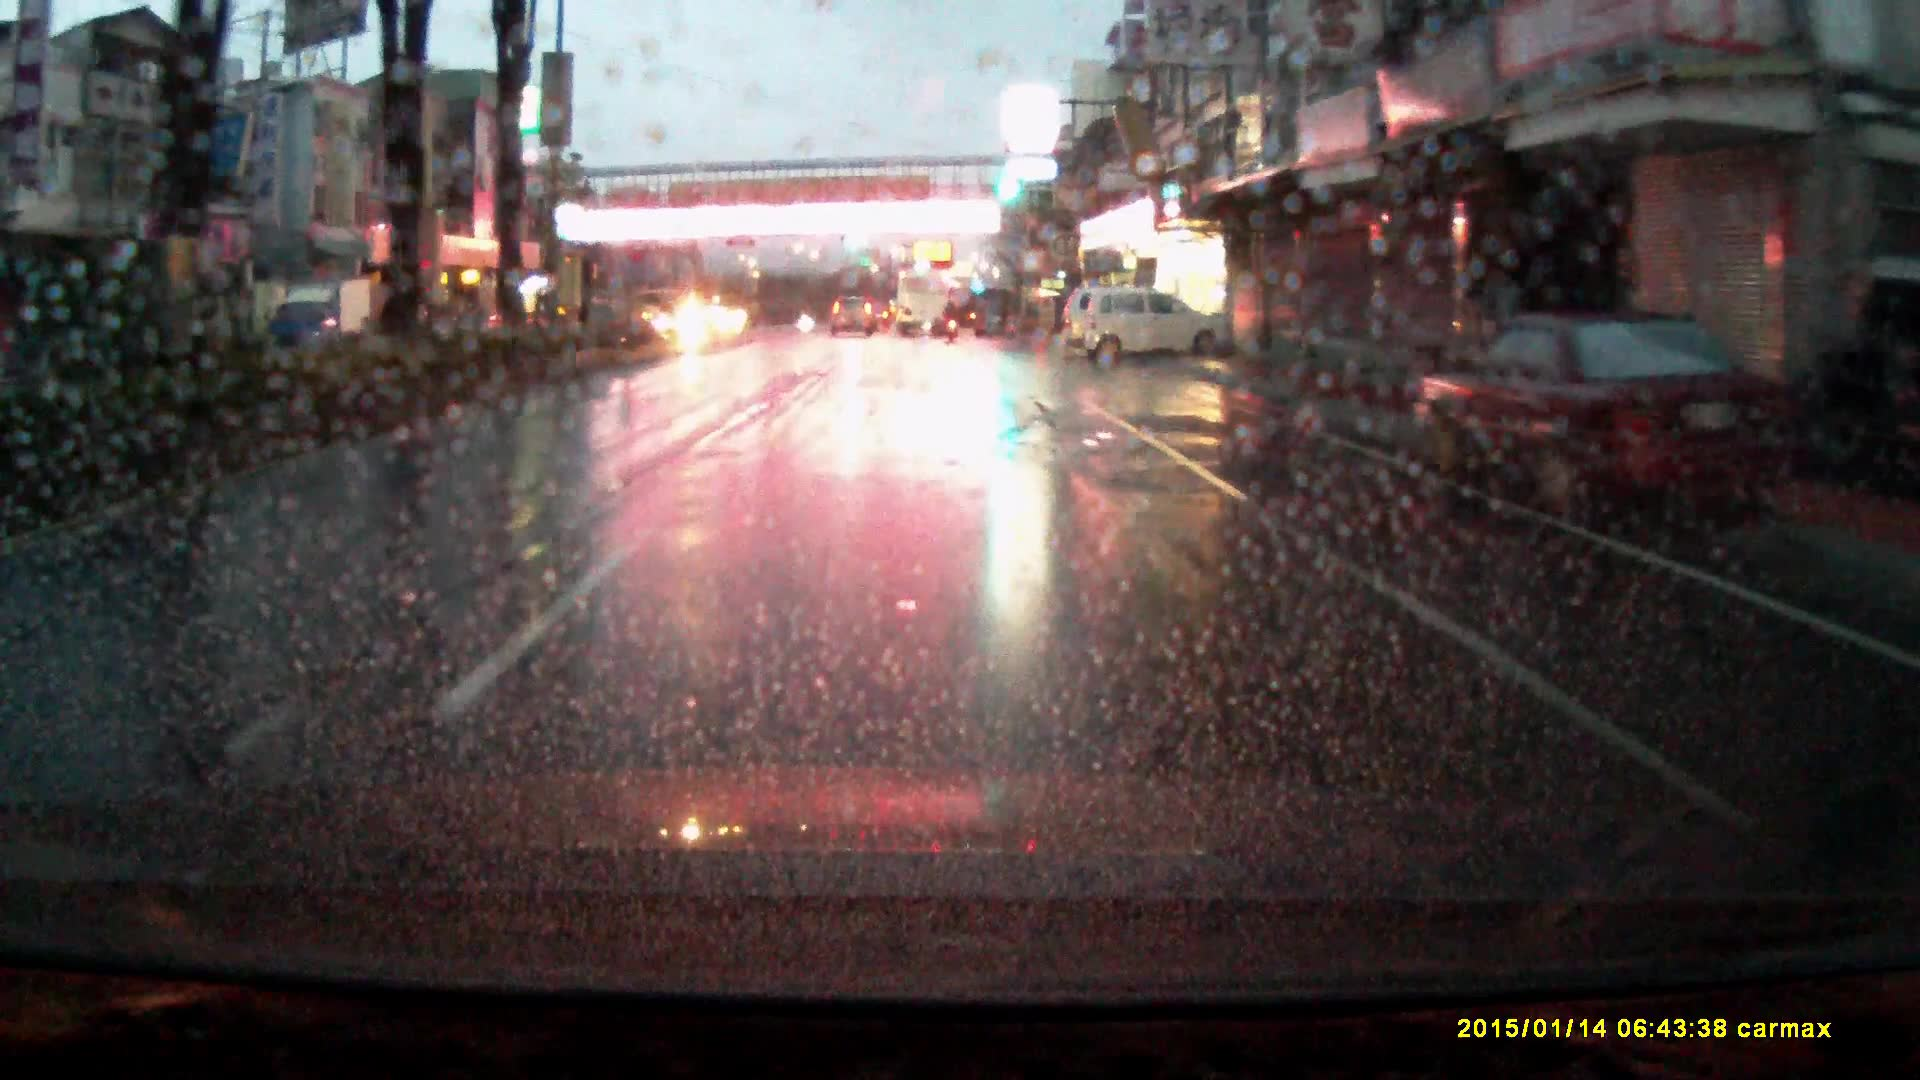rider: (942, 299, 962, 346)
vehicle: (1415, 319, 1806, 543), (1080, 294, 1236, 376), (269, 286, 370, 362), (1062, 293, 1131, 354), (897, 279, 948, 345), (831, 298, 878, 342)
